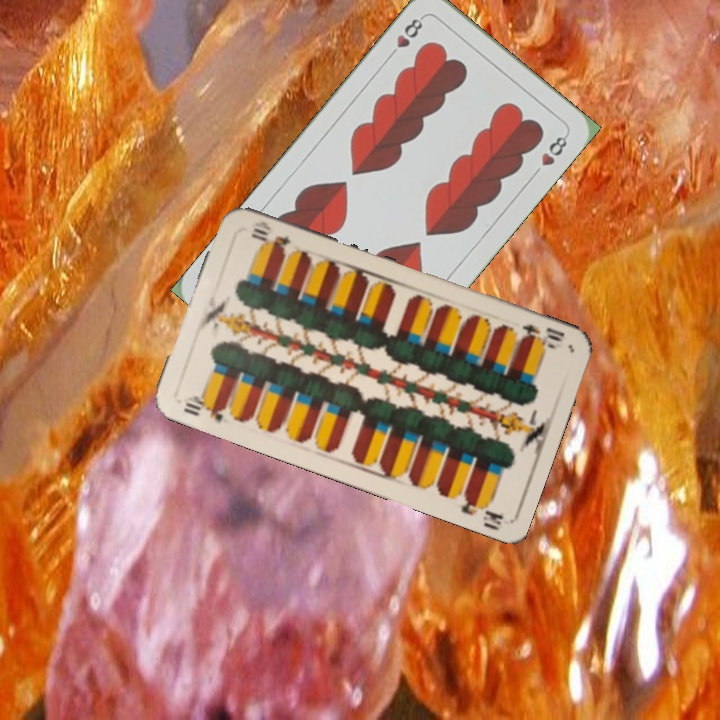E10: (179, 391, 229, 425), (517, 320, 567, 352)
H8: (384, 12, 427, 61)
